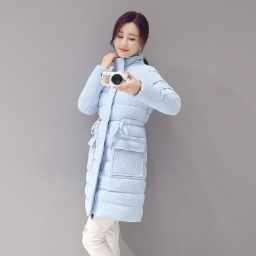face: (102, 5, 156, 68)
